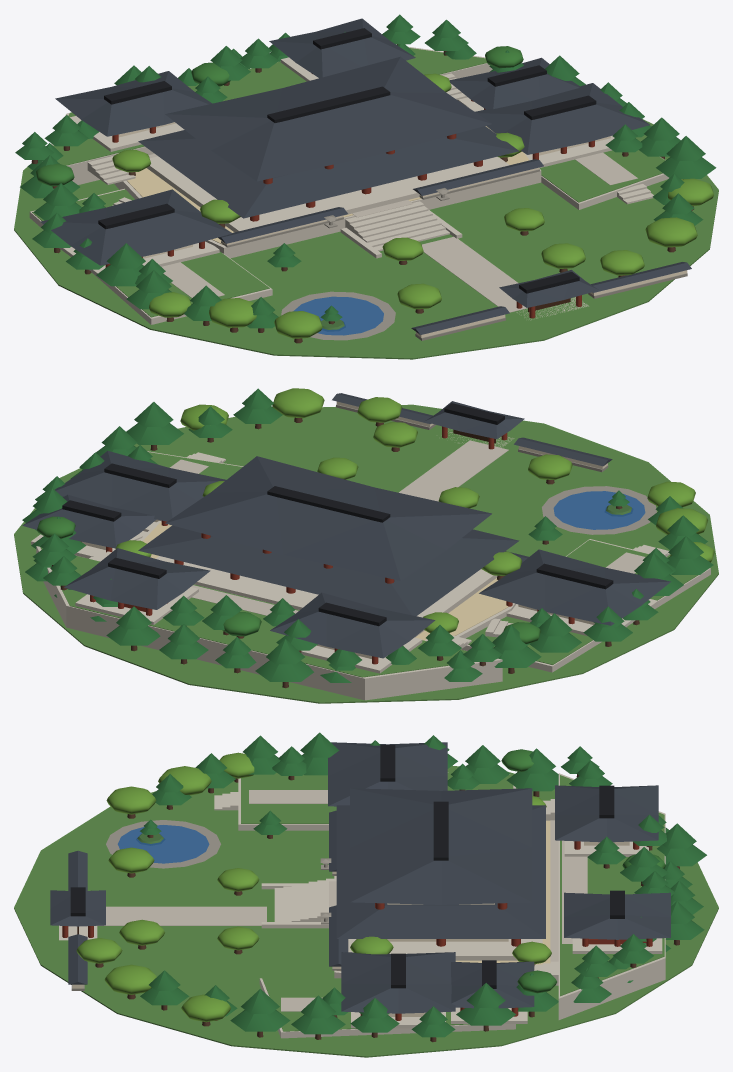
File: samcheonggak.glb
The picture shows the model from 3 angles, top to bottom: view 1: azimuth 30°, elevation 25°; view 2: azimuth 150°, elevation 25°; view 3: azimuth 270°, elevation 25°; orthographic projection.
Bounding box in the file's own units: 165 × 20.67 × 165.
